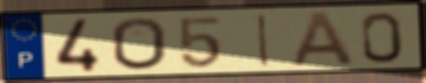0: (358, 10, 406, 65)
4: (53, 16, 104, 74)
5: (176, 15, 224, 69)
A: (288, 10, 358, 69)
I: (256, 12, 271, 69)
O: (109, 16, 169, 72)
